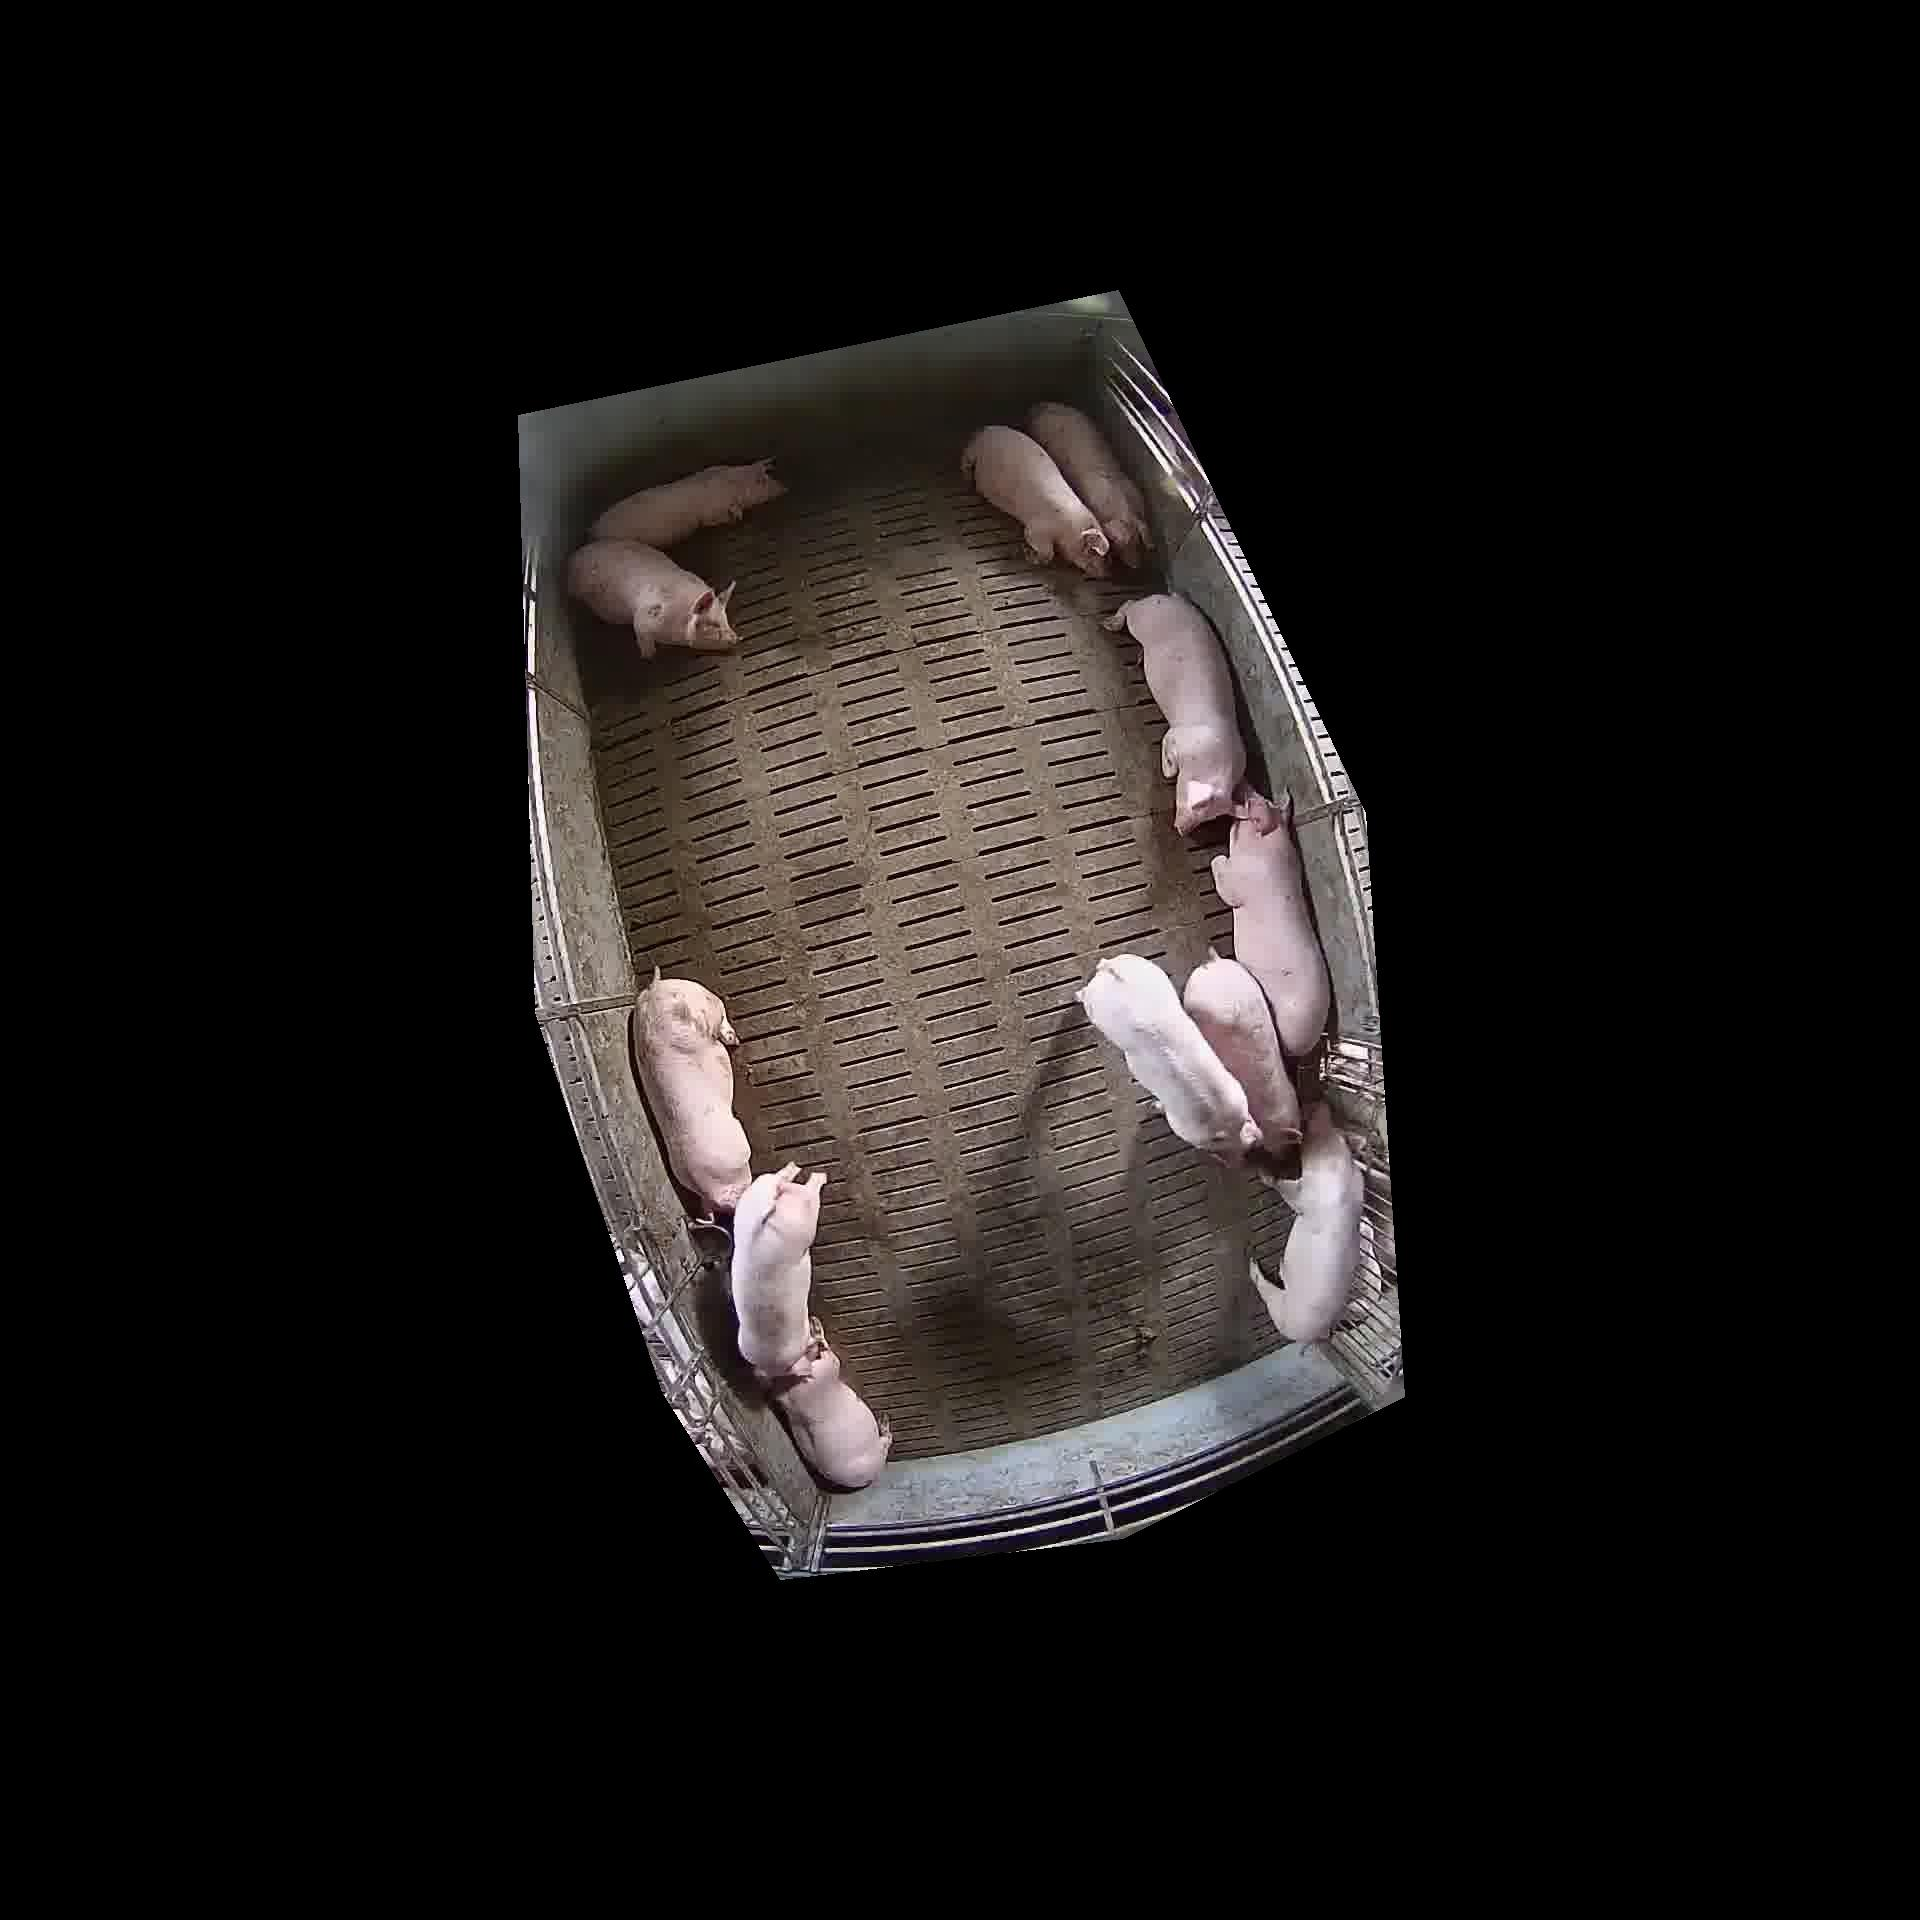pig: (1078, 955, 1261, 1162), (1108, 594, 1245, 833), (1211, 788, 1329, 1055), (633, 976, 751, 1213), (1252, 1102, 1363, 1342), (1183, 956, 1299, 1153), (962, 425, 1108, 577), (1027, 403, 1150, 566), (568, 540, 737, 658), (731, 1164, 825, 1377), (772, 1322, 891, 1487), (591, 459, 784, 549)
